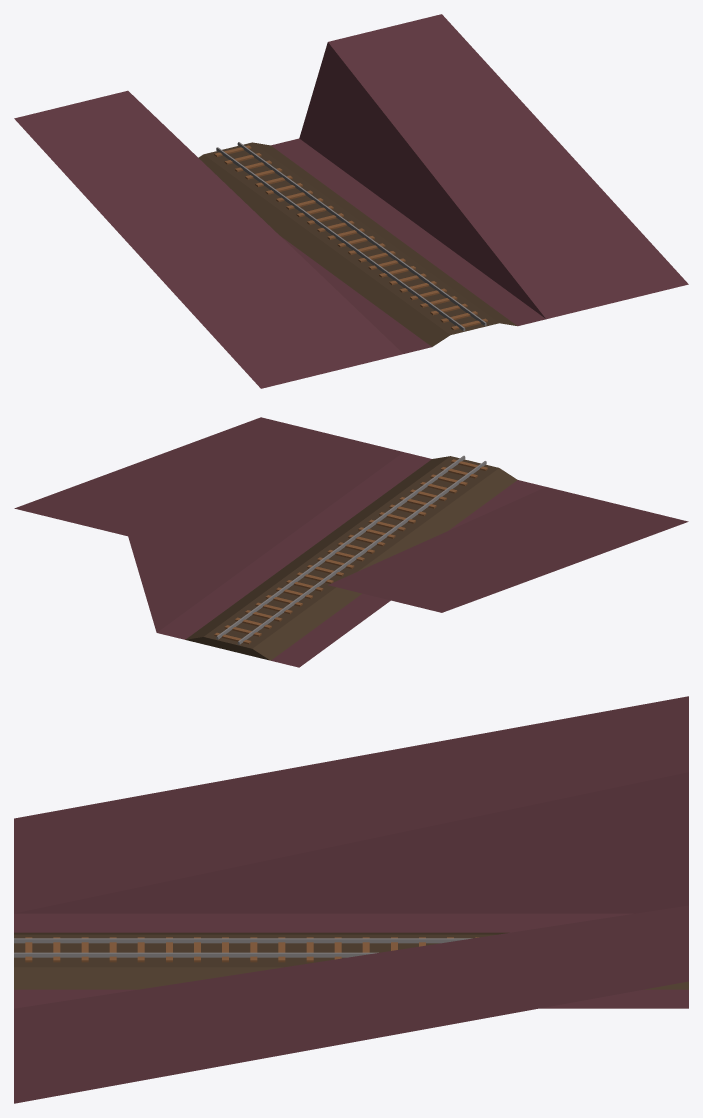
File: tiles-nb-tile-rail-tunnel-entrance-nb.glb
3 views of the same model, one above another, from view 1: azimuth 30°, elevation 25°; view 2: azimuth 150°, elevation 25°; view 3: azimuth 270°, elevation 25° (orthographic). The views are drawn at different scales.
Parts seen in each view (by area): view 1: tile-rail-tunnel-entrance-nb; view 2: tile-rail-tunnel-entrance-nb; view 3: tile-rail-tunnel-entrance-nb.
Boxes of the visible parts, <box> form: tile-rail-tunnel-entrance-nb: <box>14,14,688,388</box>; tile-rail-tunnel-entrance-nb: <box>14,417,688,667</box>; tile-rail-tunnel-entrance-nb: <box>14,696,688,1103</box>.
Bounding box in the file's own units: 30 × 6 × 30.
